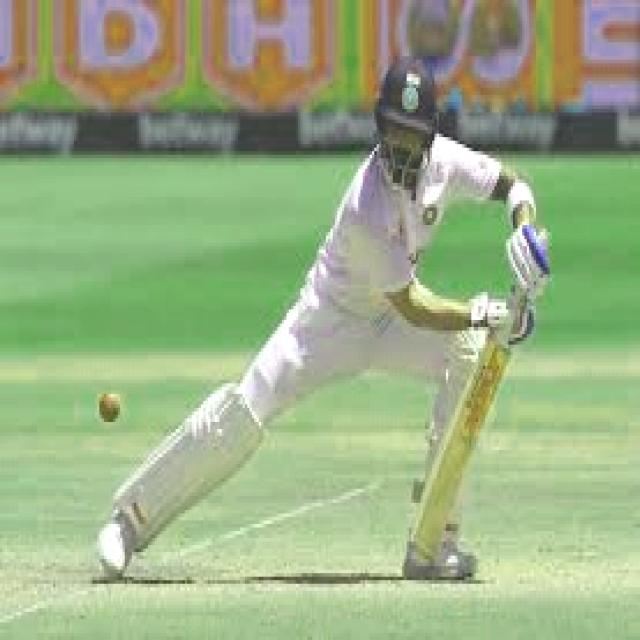toe: (410, 492, 452, 564)
